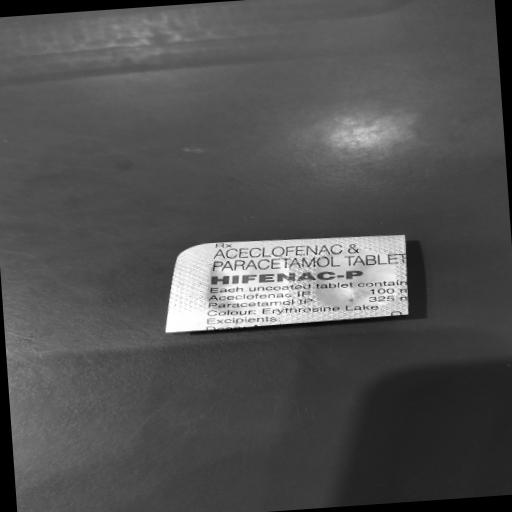hifenac-p: (206, 262, 374, 292)
medicine: (196, 228, 416, 333)
